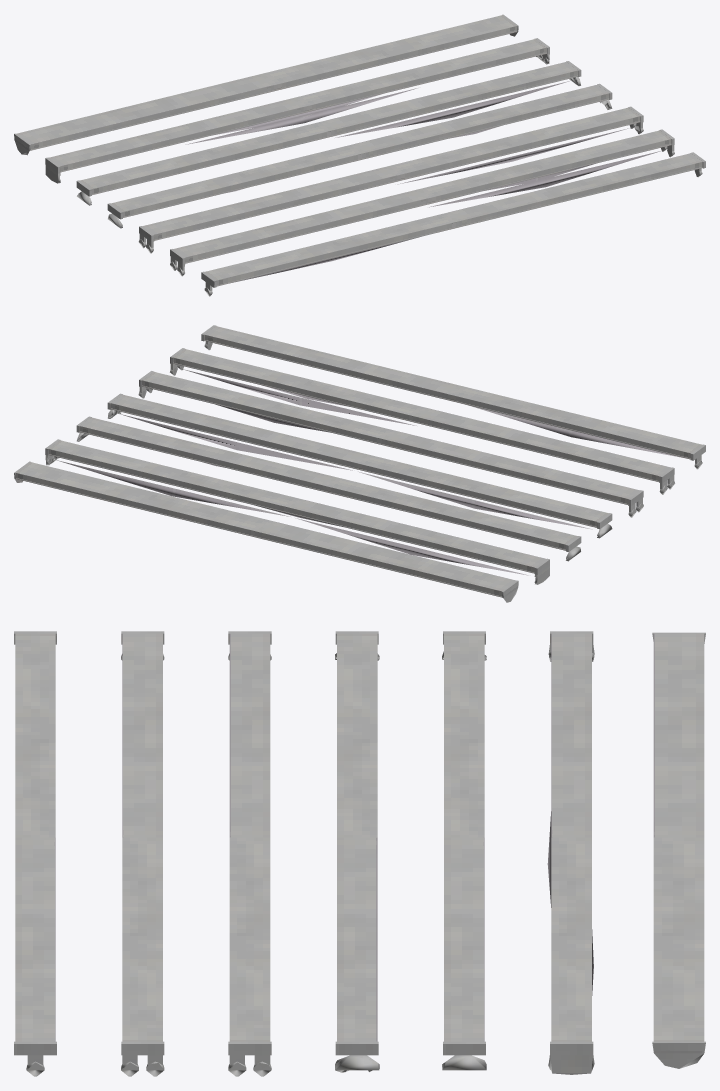
Rendered from fluorescent.glb.
3 renders of one model, top to bottom at view 1: azimuth 30°, elevation 25°; view 2: azimuth 150°, elevation 25°; view 3: azimuth 270°, elevation 25°, orthographic. The views are drawn at different scales.
Parts seen in each view (by area): view 1: mounted_fluorescent_lights_b, mounted_fluorescent_lights_f, mounted_fluorescent_lights_g, mounted_fluorescent_lights_e, mounted_fluorescent_lights_c, mounted_fluorescent_lights_a, mounted_fluorescent_lights_d; view 2: mounted_fluorescent_lights_f, mounted_fluorescent_lights_d, mounted_fluorescent_lights_b, mounted_fluorescent_lights_g, mounted_fluorescent_lights_a, mounted_fluorescent_lights_c, mounted_fluorescent_lights_e; view 3: mounted_fluorescent_lights_g, mounted_fluorescent_lights_f, mounted_fluorescent_lights_c, mounted_fluorescent_lights_b, mounted_fluorescent_lights_d, mounted_fluorescent_lights_e, mounted_fluorescent_lights_a.
Part boxes in pixels (x1,y1,x2,y2): mounted_fluorescent_lights_b: (170,129,674,276); mounted_fluorescent_lights_f: (45,38,549,183); mounted_fluorescent_lights_g: (14,14,518,155); mounted_fluorescent_lights_e: (76,61,581,205); mounted_fluorescent_lights_c: (138,106,643,253); mounted_fluorescent_lights_a: (201,152,705,296); mounted_fluorescent_lights_d: (107,83,612,228); mounted_fluorescent_lights_f: (45,439,549,584); mounted_fluorescent_lights_d: (107,393,612,538); mounted_fluorescent_lights_b: (170,348,674,494); mounted_fluorescent_lights_g: (14,461,518,602); mounted_fluorescent_lights_a: (201,325,705,469); mounted_fluorescent_lights_c: (138,371,643,517); mounted_fluorescent_lights_e: (76,416,581,561); mounted_fluorescent_lights_g: (652,632,705,1068); mounted_fluorescent_lights_f: (547,631,594,1074); mounted_fluorescent_lights_c: (228,631,271,1076); mounted_fluorescent_lights_b: (121,631,164,1076); mounted_fluorescent_lights_d: (335,631,379,1072); mounted_fluorescent_lights_e: (442,631,486,1070); mounted_fluorescent_lights_a: (14,631,56,1076).
Bounding box in the file's own units: 0.9122 × 0.0351 × 0.6454.
Materials: 1 (1 with a texture image).
